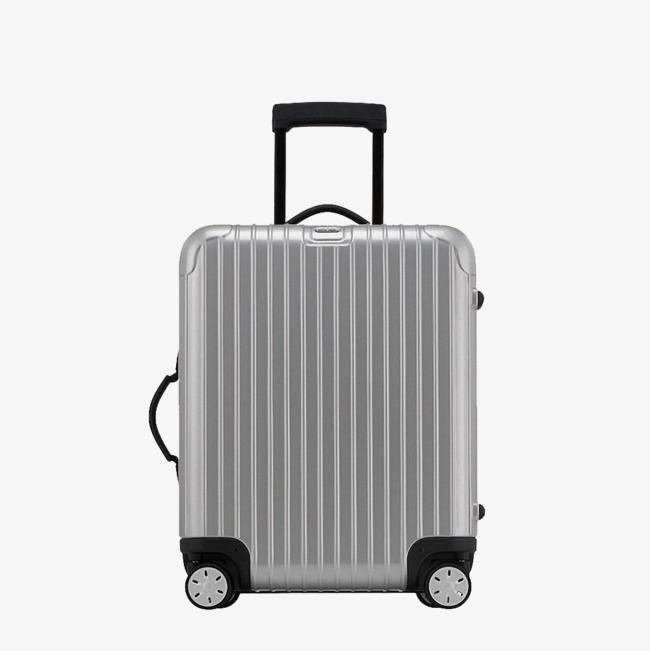box: (179, 224, 477, 595)
handle: (145, 353, 178, 479), (278, 203, 372, 226)
wheel: (184, 563, 238, 610), (422, 563, 472, 609)
